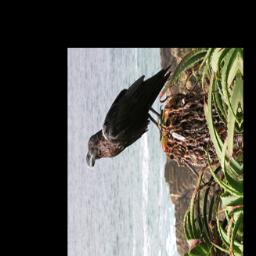Crow: (83, 62, 175, 174)
